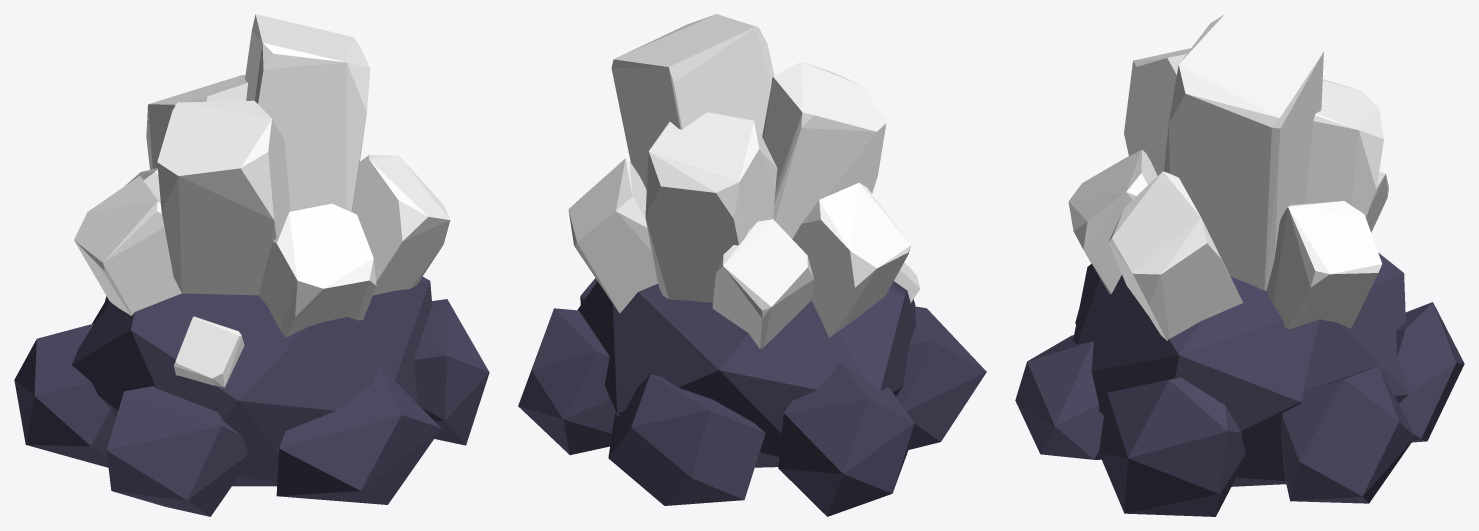
The model's file is Ore_Base.fbx.
The picture shows the model from 3 angles, left to right: view 1: azimuth 30°, elevation 25°; view 2: azimuth 150°, elevation 25°; view 3: azimuth 270°, elevation 25°; orthographic projection. The views are drawn at different scales.
Parts seen in each view (by area): view 1: Ore_Rock, Ore_Crystal; view 2: Ore_Crystal, Ore_Rock; view 3: Ore_Rock, Ore_Crystal.
Boxes of the visible parts, <box> form: Ore_Rock: <box>14,276,489,516</box>; Ore_Crystal: <box>74,14,450,387</box>; Ore_Crystal: <box>568,14,920,348</box>; Ore_Rock: <box>518,278,986,516</box>; Ore_Rock: <box>1015,253,1464,516</box>; Ore_Crystal: <box>1068,14,1388,340</box>.
Size of the model in its own units: 1.85 by 2 by 1.85.
